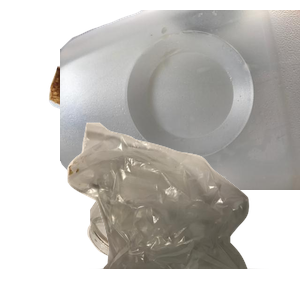cardboard: (46, 40, 226, 179)
glass: (85, 141, 275, 300)
plastic: (60, 10, 300, 190)
trash: (65, 120, 300, 300)
